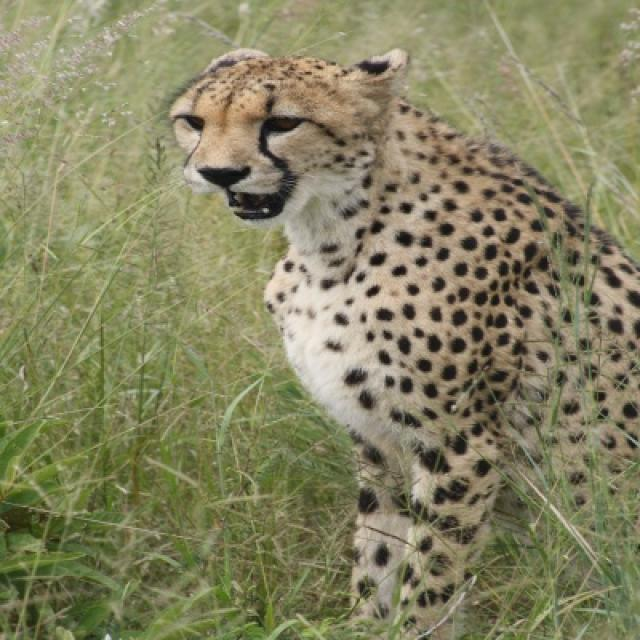Cheetah: (168, 48, 638, 638)
